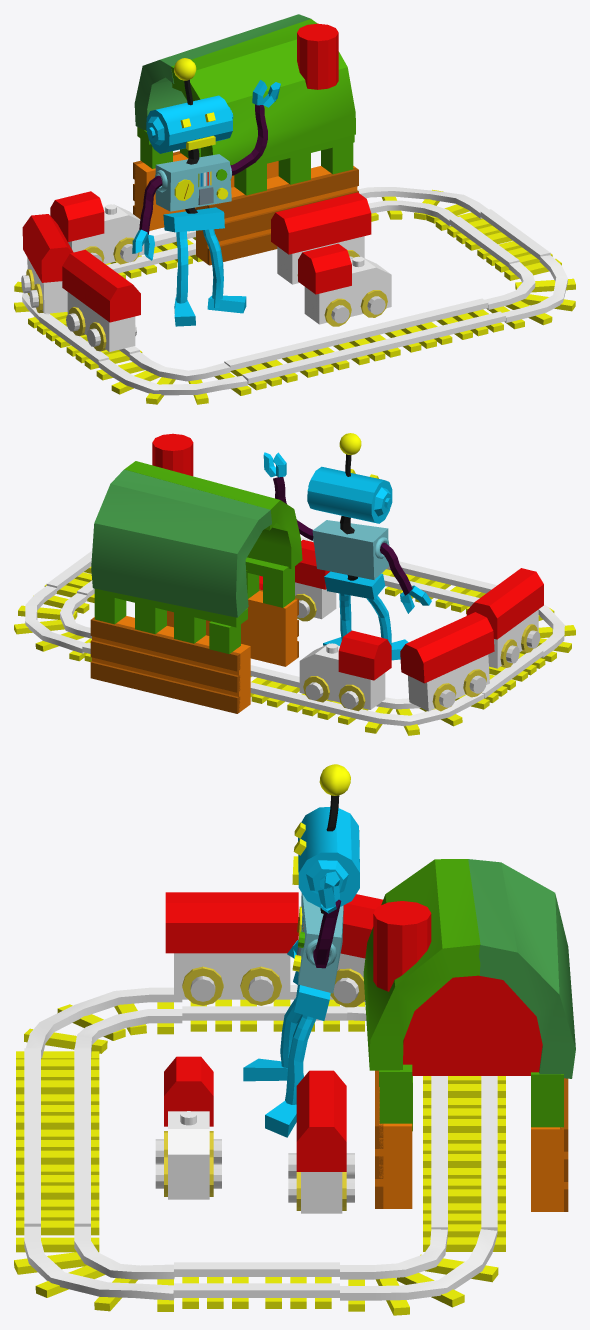
Rendered from toys.fbx.
3 views of the same model, one above another, from view 1: azimuth 30°, elevation 25°; view 2: azimuth 150°, elevation 25°; view 3: azimuth 270°, elevation 25° (orthographic). The views are drawn at different scales.
Visible parts, largest first — view 1: model:Mesh, model1:model1:mesh2043360907, model1:model1:group1; view 2: model:Mesh, model1:model1:mesh2043360907, model1:model1:group1; view 3: model:Mesh, model1:model1:mesh2043360907, model1:model1:group1.
Boxes of the visible parts, x1,y1,x2,y2 form: model:Mesh: [14, 14, 575, 404]; model1:model1:mesh2043360907: [132, 58, 280, 326]; model1:model1:group1: [180, 142, 353, 195]; model:Mesh: [14, 433, 575, 735]; model1:model1:mesh2043360907: [263, 433, 431, 660]; model1:model1:group1: [174, 570, 259, 643]; model:Mesh: [14, 859, 575, 1315]; model1:model1:mesh2043360907: [243, 764, 359, 1137]; model1:model1:group1: [379, 1076, 412, 1131].
Size of the model in its own units: 0.8952 by 0.4545 by 0.6768.
Materials: 14 (2 with a texture image).
